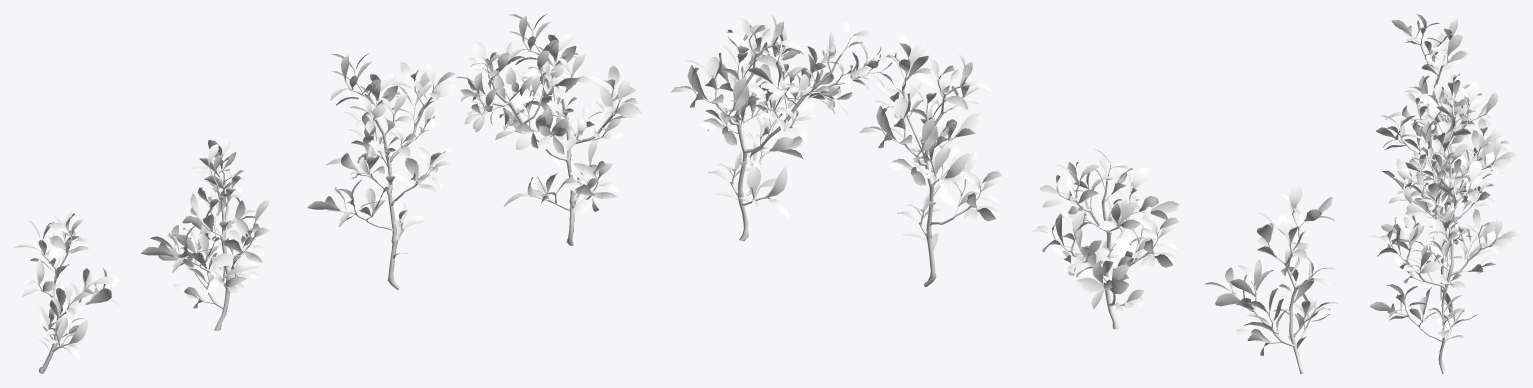
The model's file is PH_Shrub_04.glb.
3 renders of one model, left to right at view 1: azimuth 30°, elevation 25°; view 2: azimuth 150°, elevation 25°; view 3: azimuth 270°, elevation 25°, orthographic. The views are drawn at different scales.
Parts seen in each view (by area): view 1: shrub_04_d_LOD0, shrub_04_c_LOD0, shrub_04_b_LOD0, shrub_04_a_LOD0; view 2: shrub_04_d_LOD0, shrub_04_c_LOD0, shrub_04_b_LOD0, shrub_04_a_LOD0; view 3: shrub_04_d_LOD0, shrub_04_c_LOD0, shrub_04_b_LOD0, shrub_04_a_LOD0.
Boxes of the visible parts, left/top/right/bottom form: shrub_04_d_LOD0: left=455, top=14, right=641, bottom=245; shrub_04_c_LOD0: left=307, top=53, right=455, bottom=289; shrub_04_b_LOD0: left=141, top=140, right=270, bottom=330; shrub_04_a_LOD0: left=14, top=211, right=121, bottom=373; shrub_04_d_LOD0: left=671, top=14, right=896, bottom=241; shrub_04_c_LOD0: left=859, top=34, right=1001, bottom=286; shrub_04_b_LOD0: left=1031, top=149, right=1178, bottom=329; shrub_04_a_LOD0: left=1205, top=184, right=1339, bottom=373; shrub_04_d_LOD0: left=1368, top=141, right=1518, bottom=373; shrub_04_c_LOD0: left=1382, top=80, right=1516, bottom=300; shrub_04_b_LOD0: left=1376, top=73, right=1509, bottom=222; shrub_04_a_LOD0: left=1385, top=14, right=1471, bottom=143.
Size of what is drawn, in the model's own units: 0.7468 by 0.2804 by 0.1869.
Materials: 1 (1 with a texture image).
